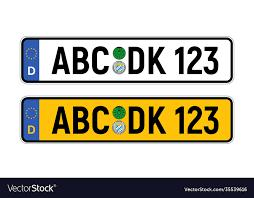1: (173, 45, 187, 75), (174, 105, 187, 135)
2: (186, 44, 203, 74), (186, 106, 203, 134)
3: (202, 105, 221, 134), (202, 46, 220, 75)
A: (50, 45, 70, 75), (51, 105, 70, 134)
B: (72, 105, 91, 135), (72, 45, 91, 75)
C: (91, 45, 111, 75), (92, 105, 111, 134)
D: (127, 45, 145, 75), (127, 105, 145, 134)
K: (146, 45, 167, 74), (146, 105, 166, 134)
